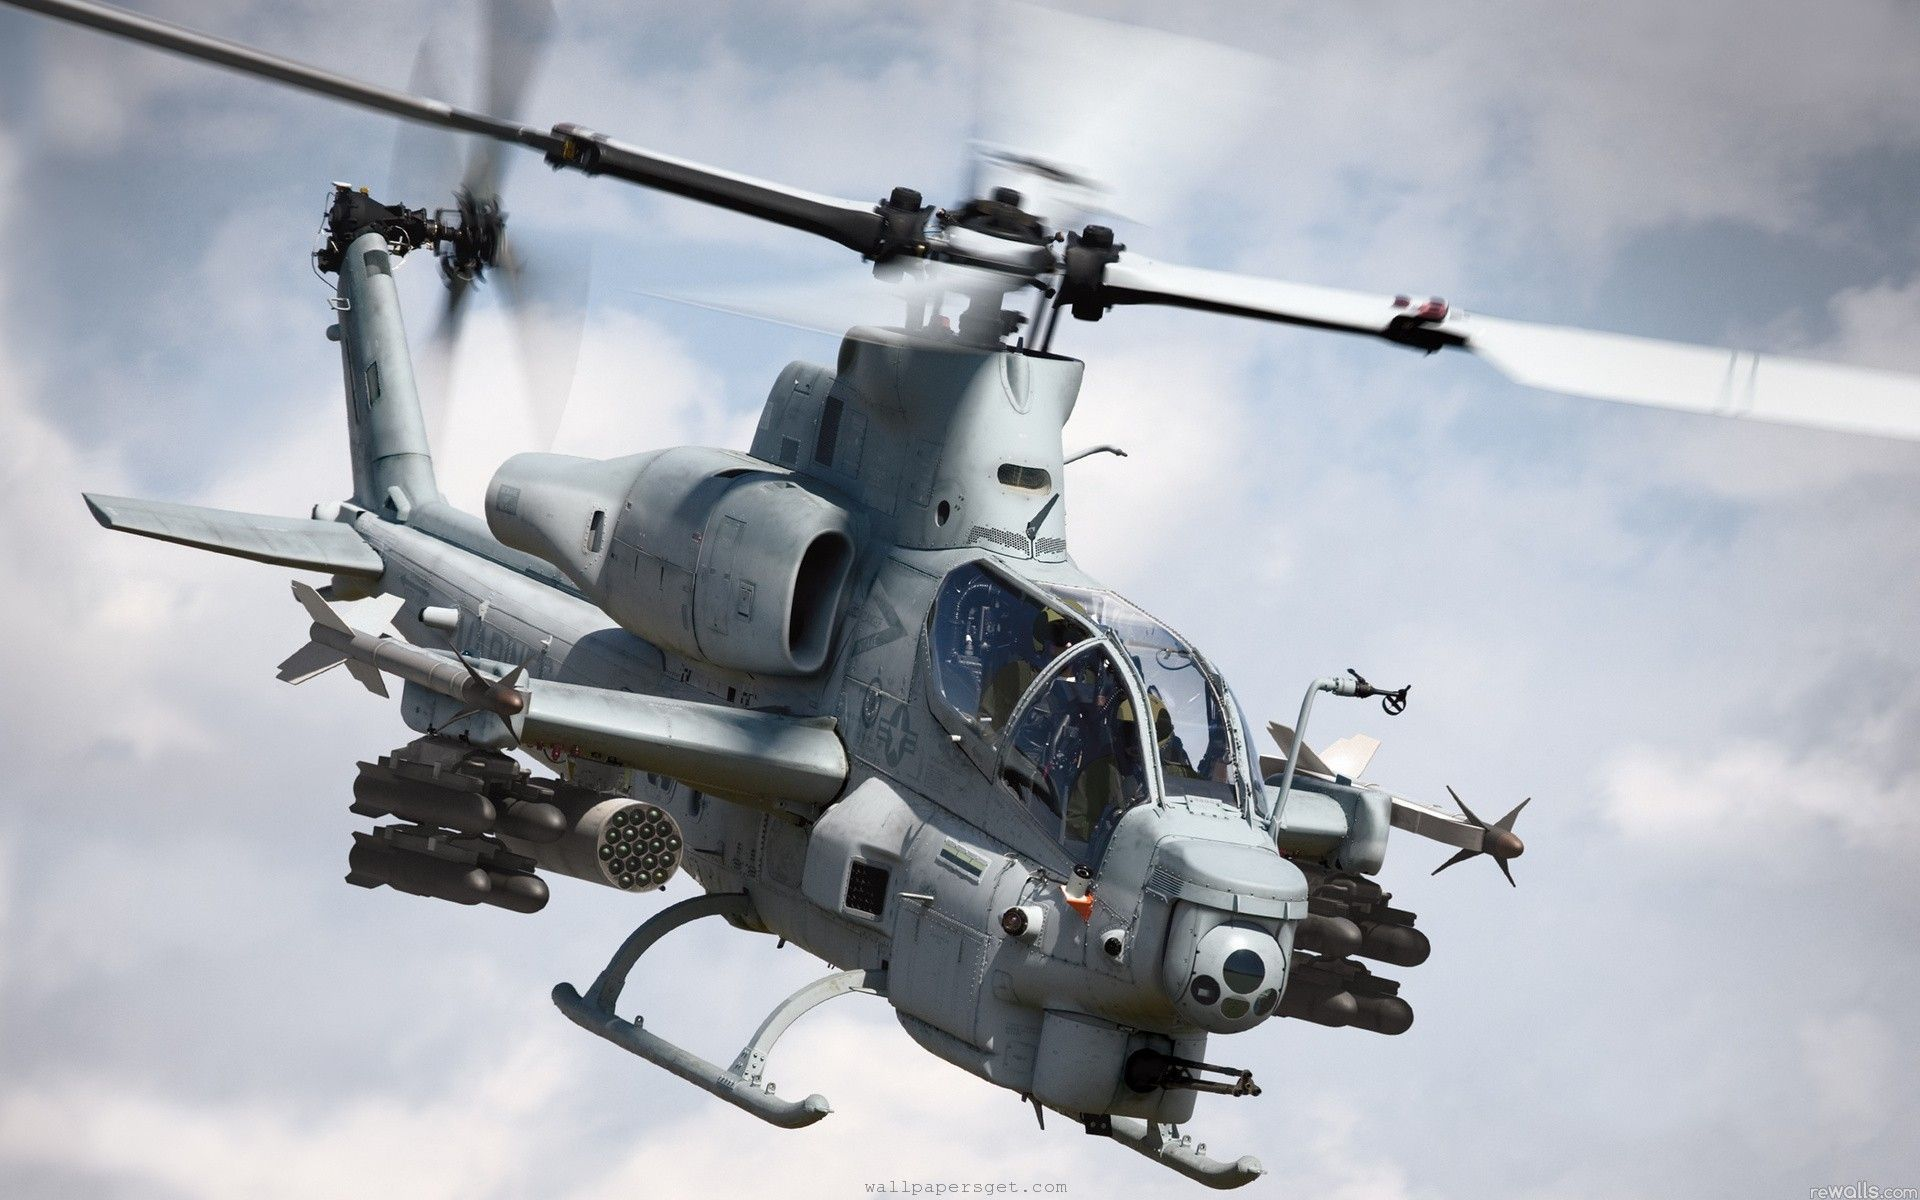MilitaryHelicopter: (229, 123, 1534, 1147)
